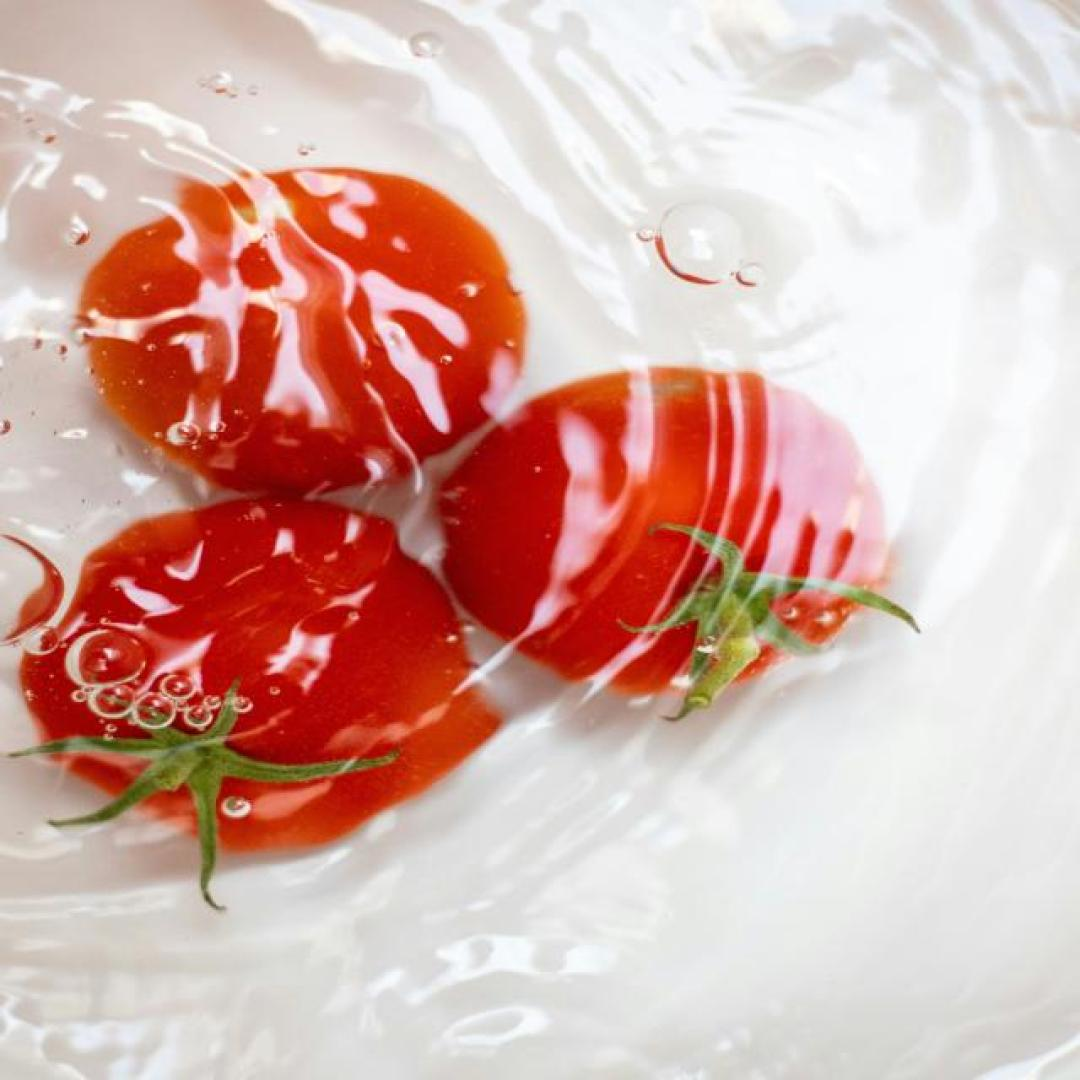matang: (23, 501, 494, 857), (436, 370, 890, 698), (82, 169, 522, 496)
